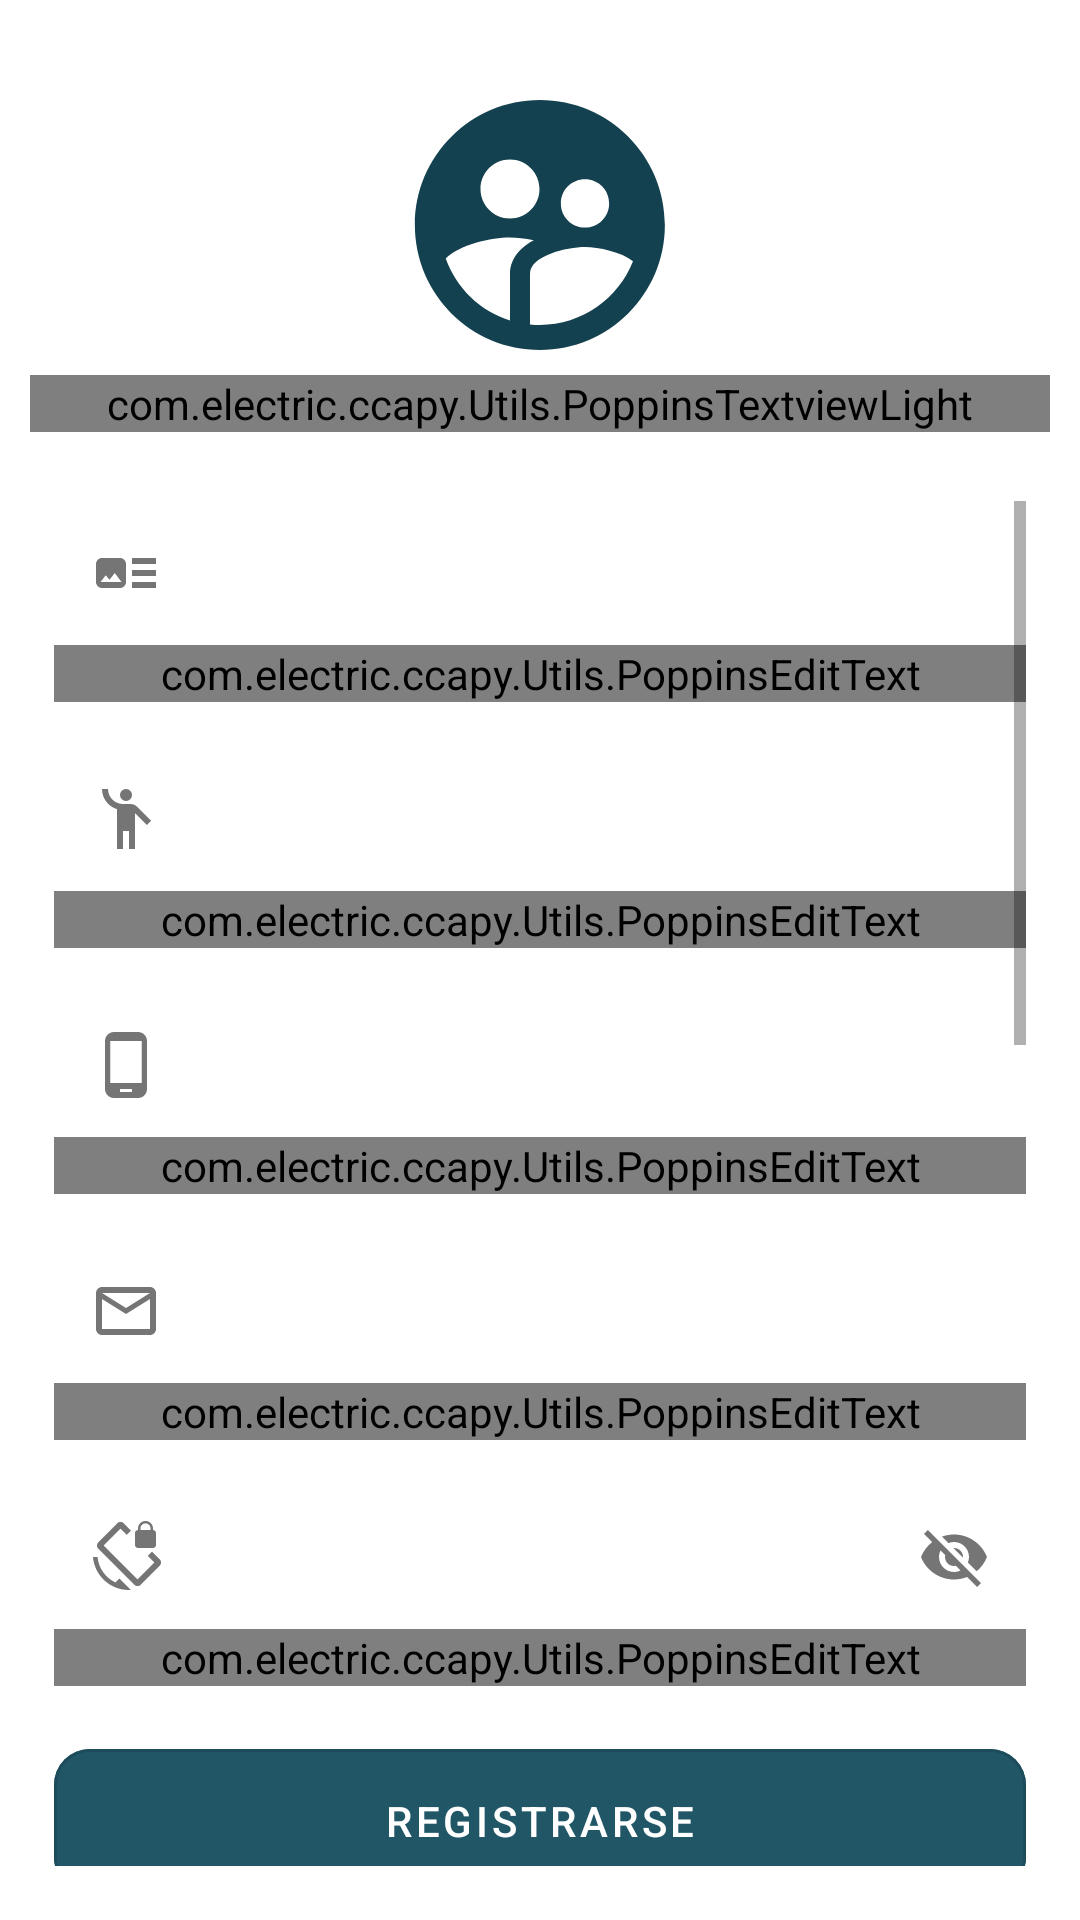

Where icons sit on this 1080px x 1920px app screen, as (x1, y1, x2, y2):
user: (414, 100, 665, 350)
